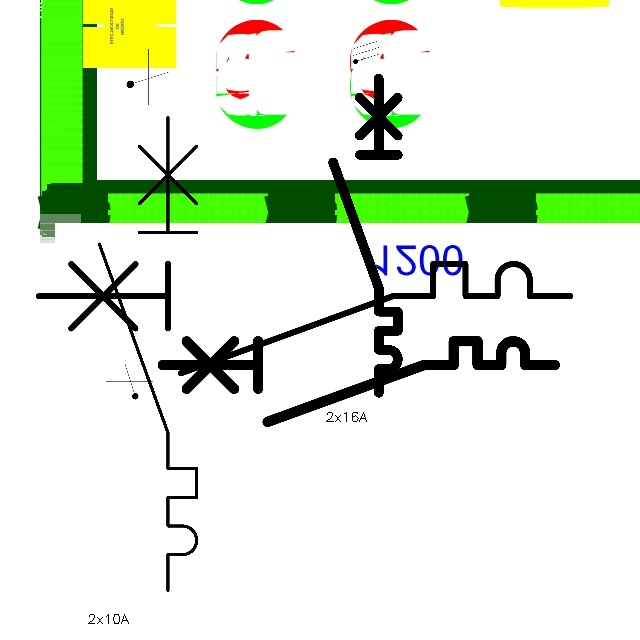interruptor_termomagnetico: (25, 250, 584, 387), (87, 105, 209, 603), (152, 331, 564, 432), (325, 70, 406, 400)
